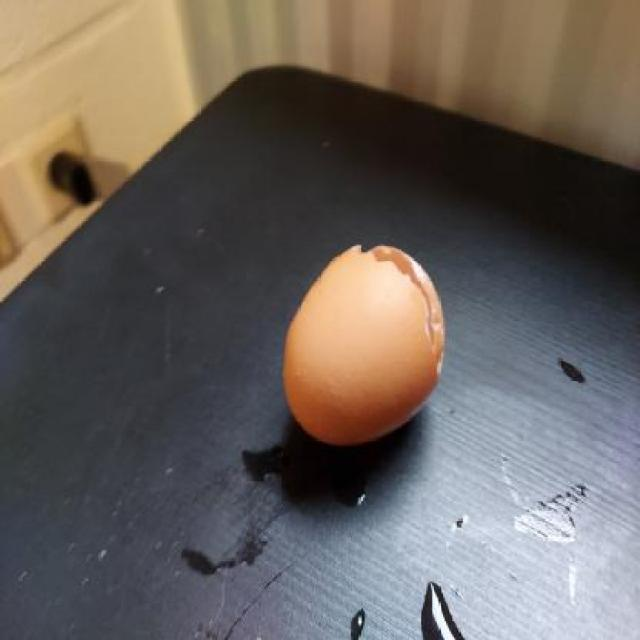biodegradable: (279, 223, 453, 440)
